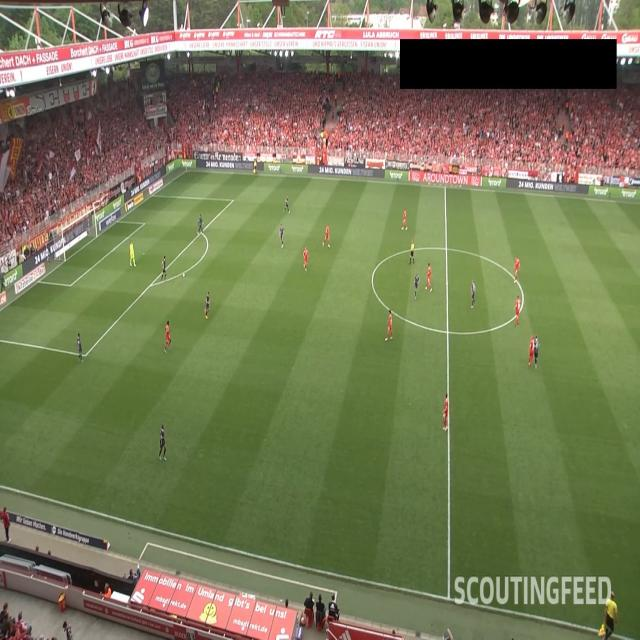ball: (182, 273, 185, 278)
